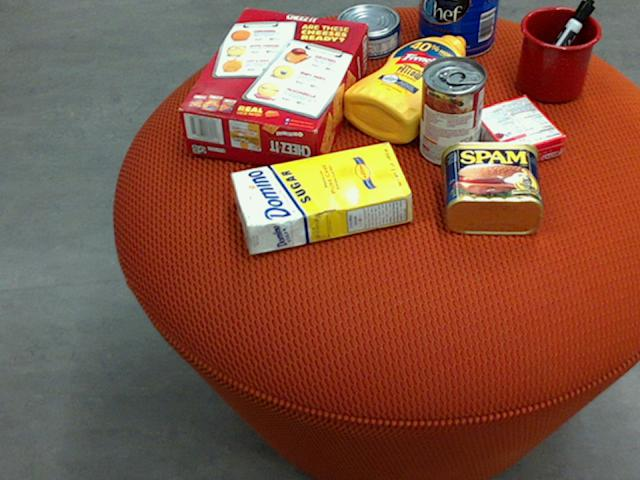cracker_box: (176, 7, 368, 173)
gelatin_box: (471, 96, 566, 169)
large_marker: (525, 0, 594, 90)
master_chef_can: (417, 0, 499, 56)
mug: (516, 5, 601, 101)
mustard_bottle: (342, 34, 466, 142)
potted_meat_can: (439, 141, 541, 234)
sugar_box: (229, 140, 413, 255)
tomato_soup_can: (420, 54, 484, 165)
tuna_fish_can: (335, 2, 400, 56)
